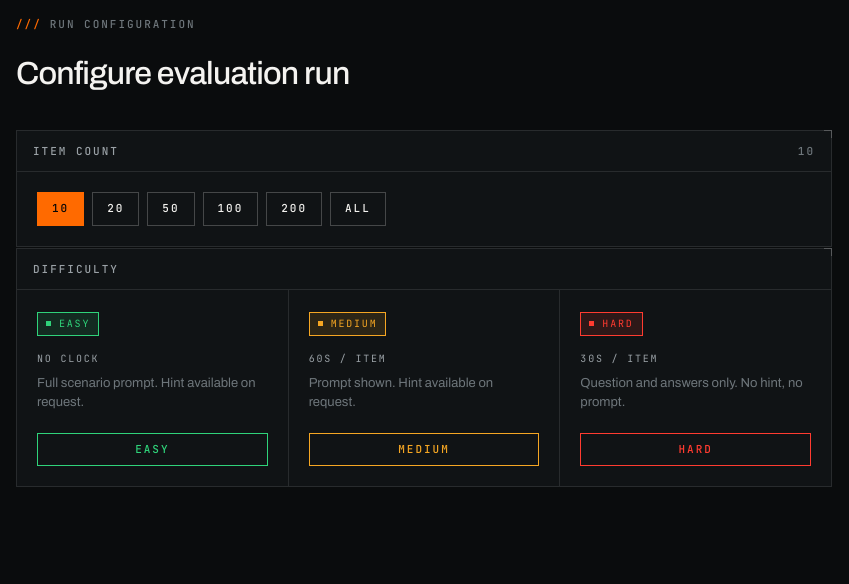
Test: QuizPage › blocks Next until an answer is chosen, and says so inline
The image size is (849, 584).
Click the button "EASY": (152, 449) [37,433,268,466]
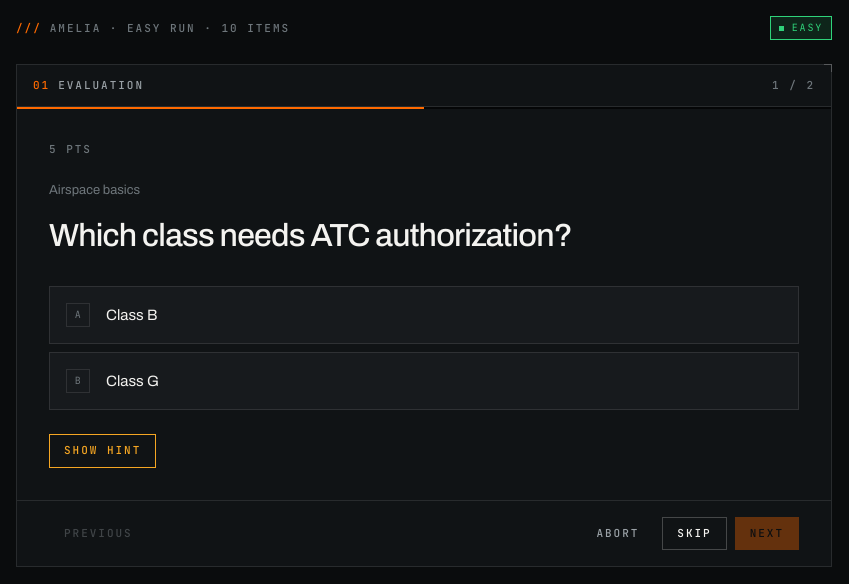
expect the text "Which class needs ATC authorization?" is shown: met, box [49,218,572,252]
expect the button "Next" is disabled: met, box [735,517,799,550]
Click the radio button labelled "Class B": (132, 315) [49,286,799,344]
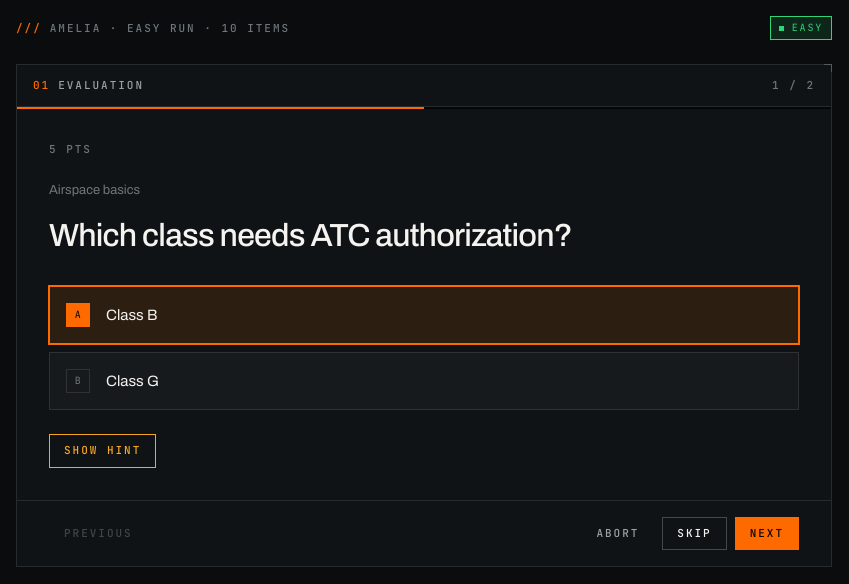
expect the button "Next" is enabled: met, box [735,517,799,550]
